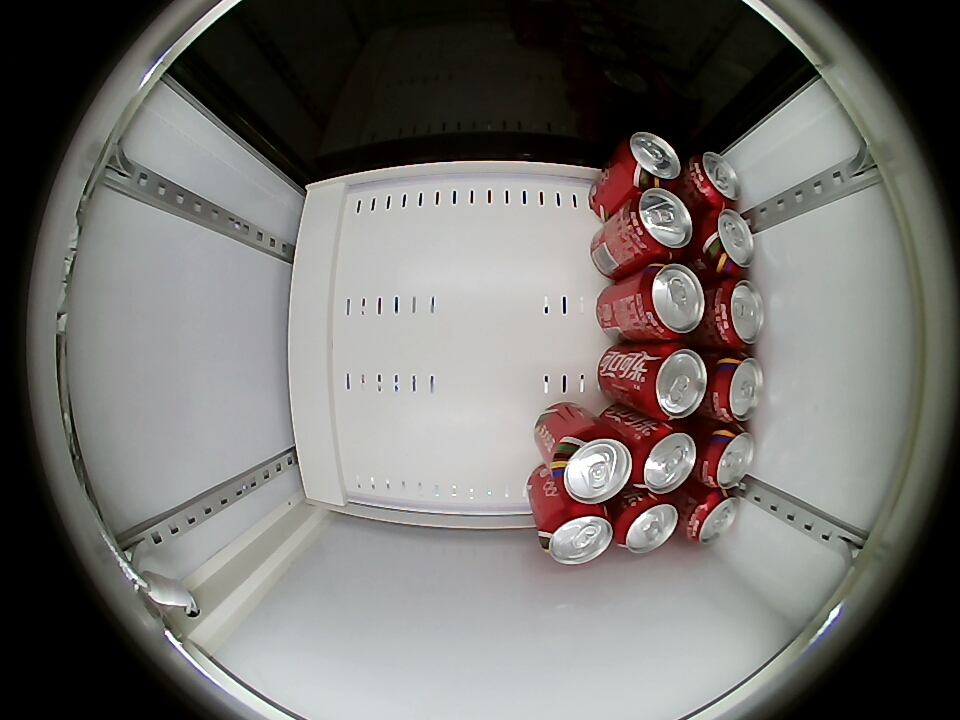kele: (553, 425, 633, 505), (634, 263, 706, 341), (623, 187, 693, 260), (641, 344, 708, 420), (631, 424, 697, 495), (539, 504, 615, 565), (710, 353, 764, 423), (615, 496, 679, 554), (712, 279, 765, 349), (700, 425, 756, 491), (700, 210, 756, 275), (618, 131, 682, 187), (687, 151, 741, 210), (685, 489, 739, 545)
